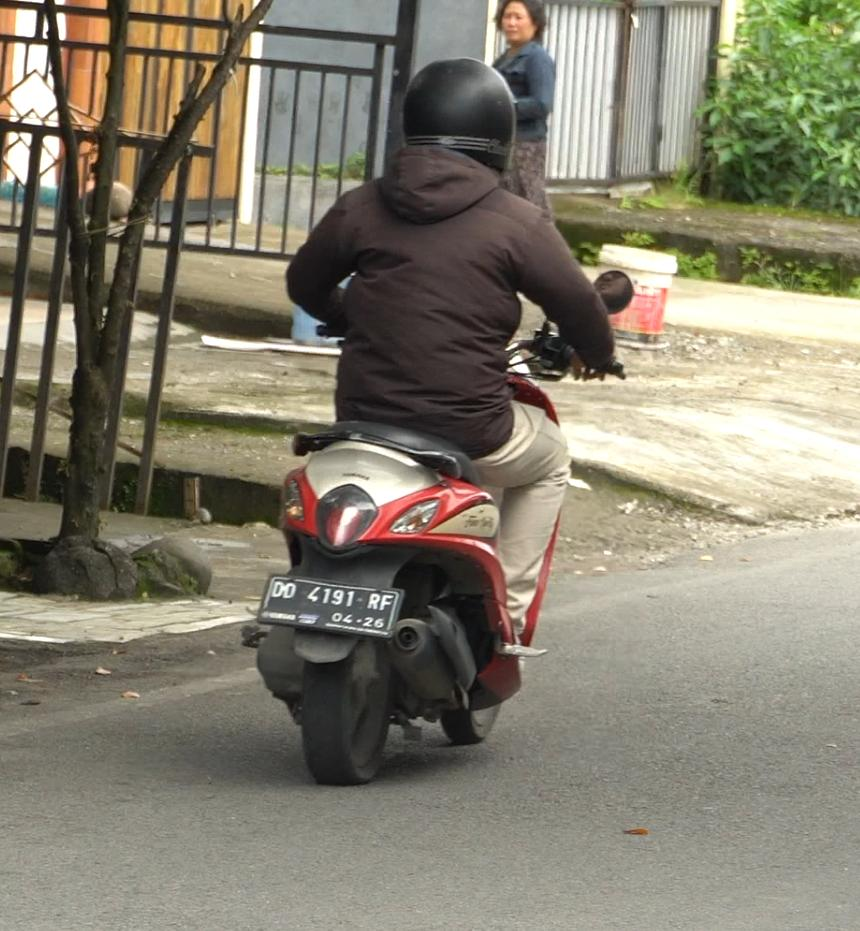number-plate: (261, 574, 404, 638)
